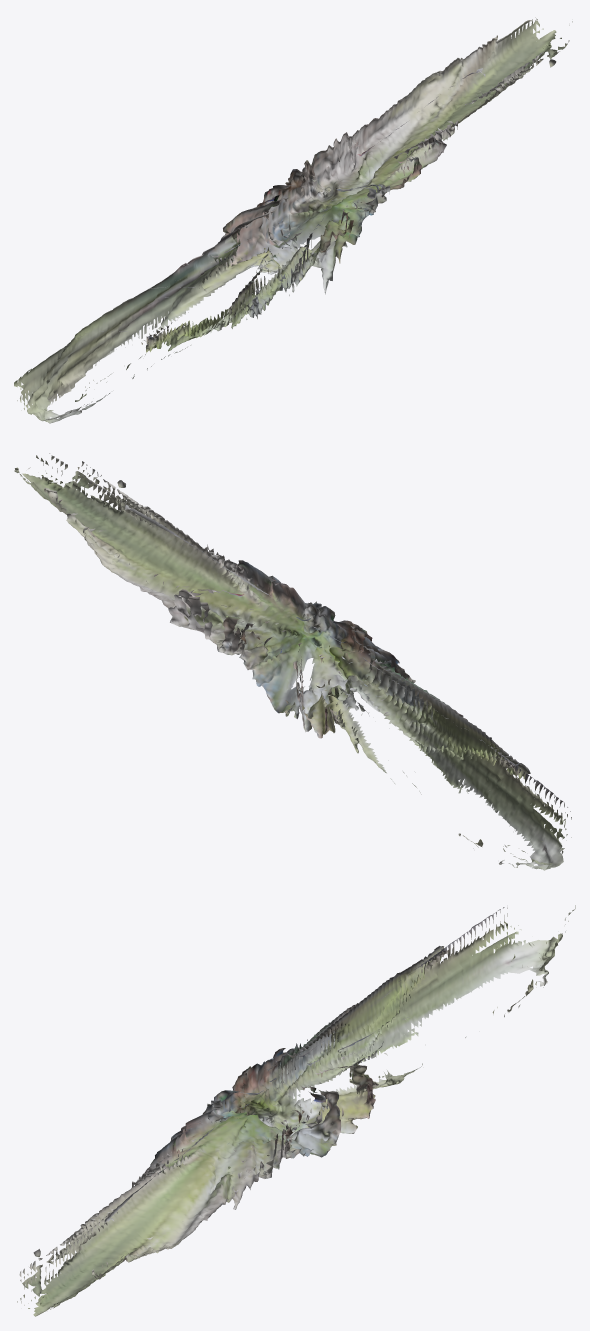
Rendered from multi_0_2_collider.glb.
The picture shows the model from 3 angles, top to bottom: view 1: azimuth 90°, elevation 25°; view 2: azimuth 150°, elevation 25°; view 3: azimuth 270°, elevation 25°; orthographic projection.
Visible parts, largest first — view 1: world; view 2: world; view 3: world.
Part boxes in pixels (<box>): world: <box>14,17,572,423</box>; world: <box>14,453,571,870</box>; world: <box>17,905,575,1316</box>.
Bounding box in the file's own units: 62.8 × 5.68 × 38.83.
